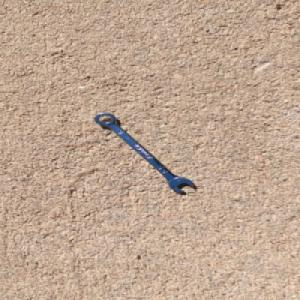Wrench: (92, 112, 195, 194)
